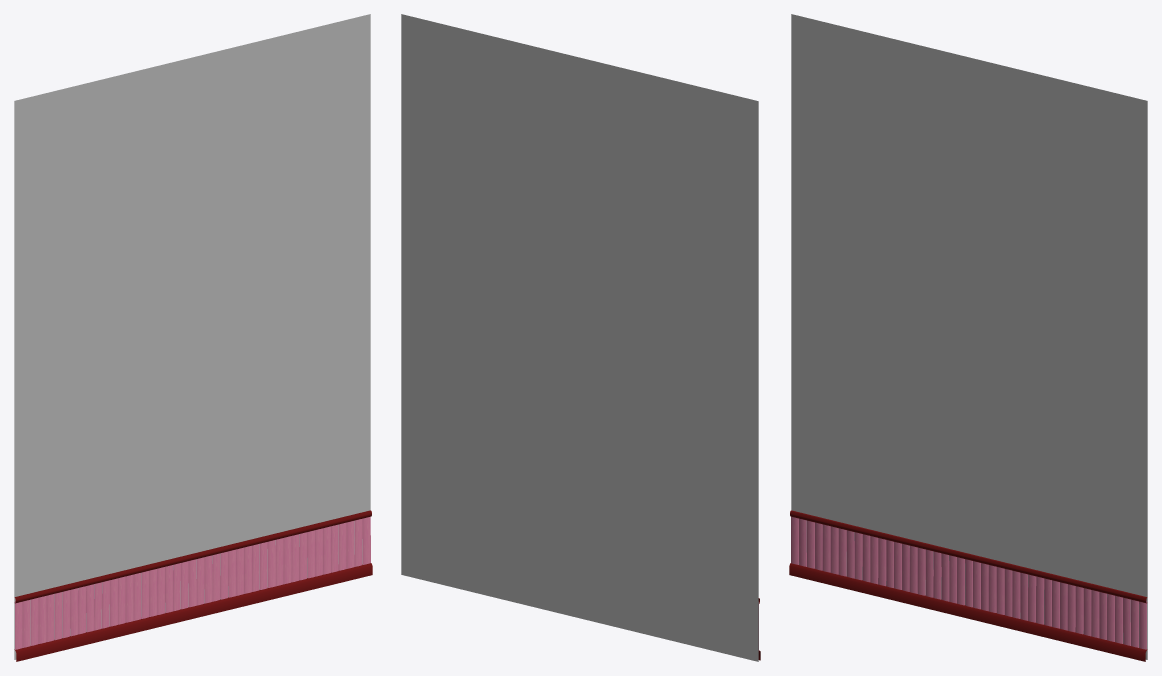
The model's file is wall.fbx.
3 views of the same model, side by side, from view 1: azimuth 30°, elevation 25°; view 2: azimuth 150°, elevation 25°; view 3: azimuth 330°, elevation 25° (orthographic).
Visible parts, largest first — view 1: wall; view 2: wall; view 3: wall.
Part boxes in pixels (<box>): wall: <box>14,14,372,661</box>; wall: <box>401,14,760,661</box>; wall: <box>789,14,1147,661</box>.
Bounding box in the file's own units: 20 × 30 × 0.2101.
